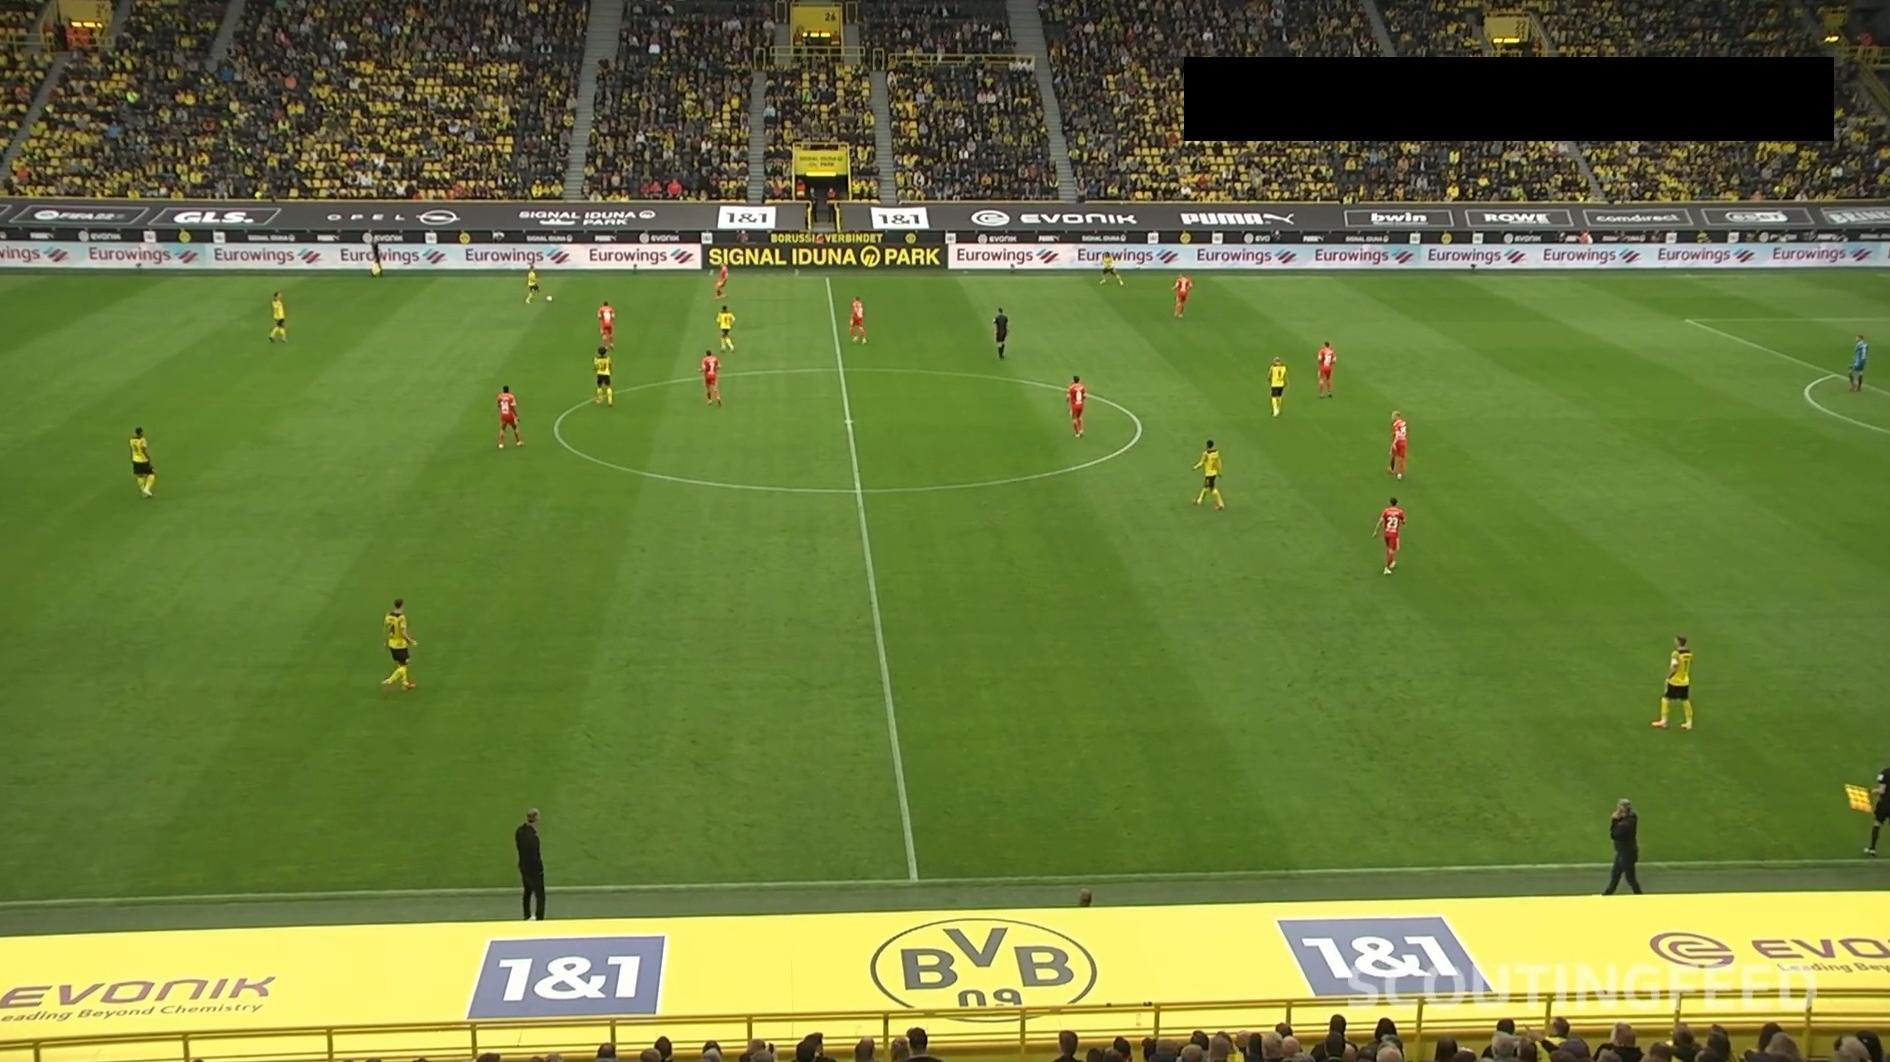ball: (545, 293, 553, 304)
